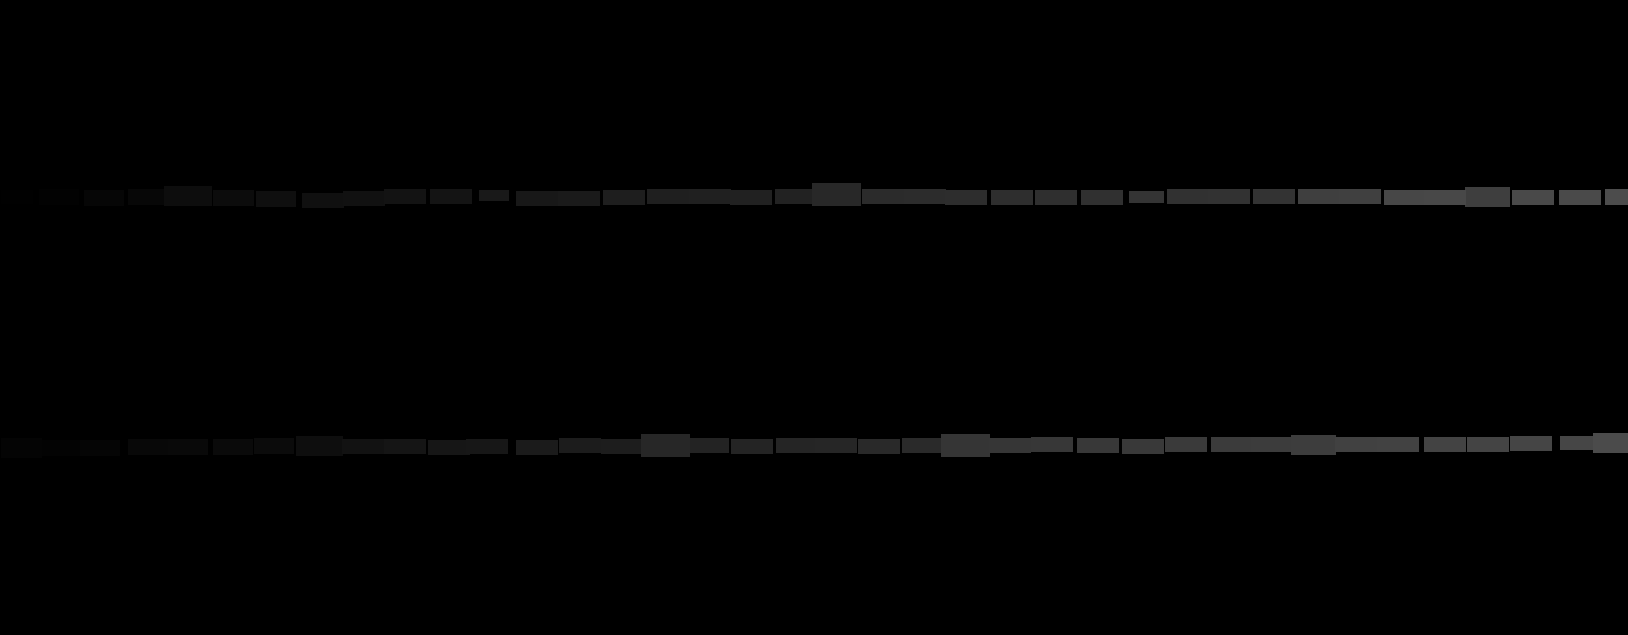light: (812, 183, 861, 206), (641, 434, 690, 457), (941, 434, 991, 457), (164, 186, 212, 206), (1291, 435, 1336, 455), (1465, 187, 1510, 208), (296, 436, 343, 455), (1, 438, 42, 458), (1593, 433, 1628, 453), (213, 190, 254, 206), (128, 189, 168, 205), (128, 439, 168, 455), (213, 439, 253, 455), (343, 191, 385, 206), (342, 439, 384, 454), (430, 189, 472, 204), (428, 440, 470, 455), (558, 191, 600, 206), (559, 438, 601, 453), (647, 189, 689, 204), (730, 190, 772, 205), (775, 189, 817, 204), (731, 439, 774, 454), (776, 438, 818, 453), (858, 439, 900, 454), (862, 189, 904, 204), (945, 190, 987, 205), (991, 190, 1033, 205), (1081, 190, 1123, 205), (1208, 189, 1250, 204), (1077, 438, 1119, 453), (1165, 437, 1208, 452), (1211, 437, 1253, 452), (1298, 189, 1340, 204), (1377, 437, 1419, 452), (1510, 436, 1552, 451), (1512, 190, 1554, 205), (39, 189, 79, 205), (84, 190, 124, 206), (168, 439, 208, 455), (254, 438, 294, 454), (256, 191, 296, 208), (384, 189, 426, 204), (384, 439, 426, 454), (466, 439, 508, 454), (516, 191, 558, 206), (516, 440, 558, 455), (601, 439, 643, 454), (603, 190, 645, 205), (689, 189, 731, 204), (687, 438, 729, 453), (815, 438, 857, 453), (902, 438, 944, 453), (904, 189, 946, 204), (1035, 190, 1077, 205), (1167, 189, 1209, 204), (1253, 189, 1295, 204), (989, 438, 1031, 453), (1031, 437, 1073, 452), (1122, 439, 1164, 454), (1251, 437, 1293, 452), (1339, 189, 1381, 204), (1335, 437, 1377, 452), (1424, 437, 1466, 452), (1467, 437, 1509, 452), (1384, 190, 1426, 205), (1424, 190, 1466, 205), (1559, 190, 1601, 205), (80, 440, 120, 455), (40, 440, 80, 455), (302, 193, 344, 208), (1561, 436, 1596, 450), (1, 190, 33, 204), (1129, 191, 1164, 203), (1605, 189, 1628, 205), (479, 190, 509, 201)
